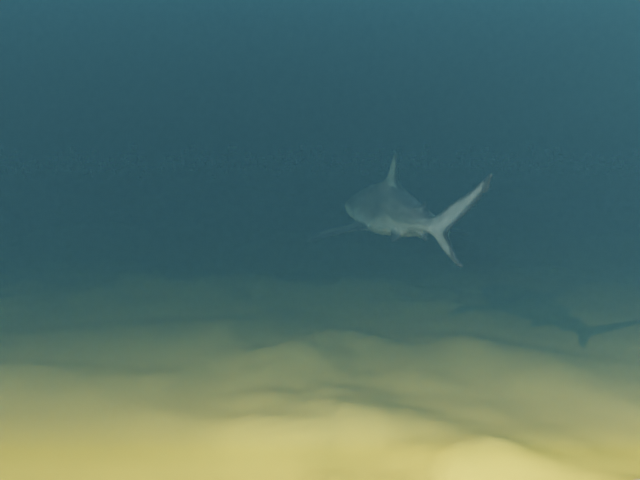Carribean Shark.001: (307, 151, 493, 267)
